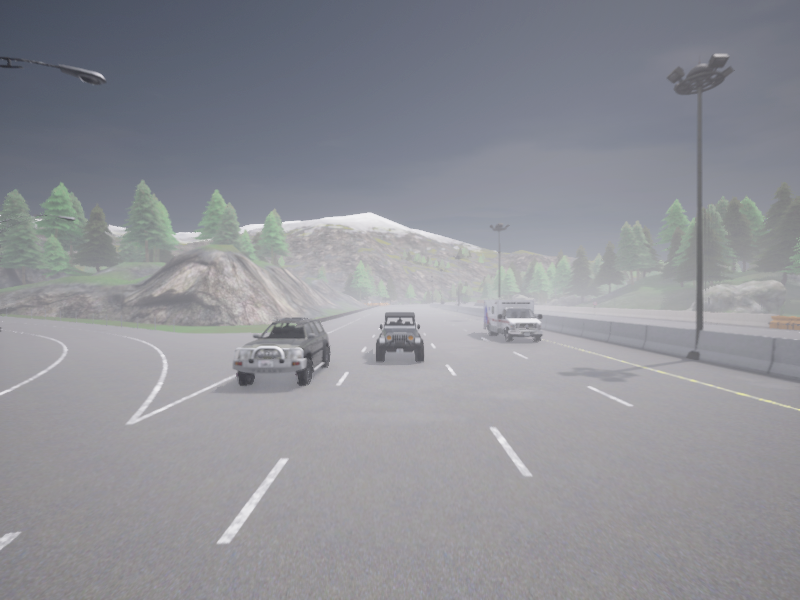vehicle: (233, 317, 330, 385), (483, 300, 542, 342), (375, 312, 424, 361), (455, 300, 460, 304), (442, 301, 444, 304), (463, 302, 468, 303)
